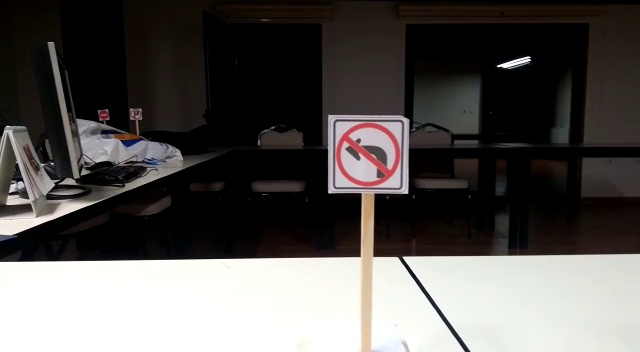sola_donulmez: (331, 119, 403, 188)
